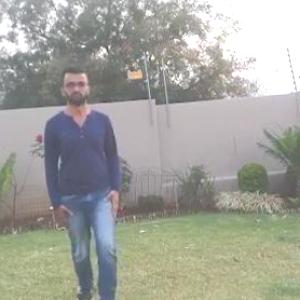follow: (50, 76, 118, 292)
